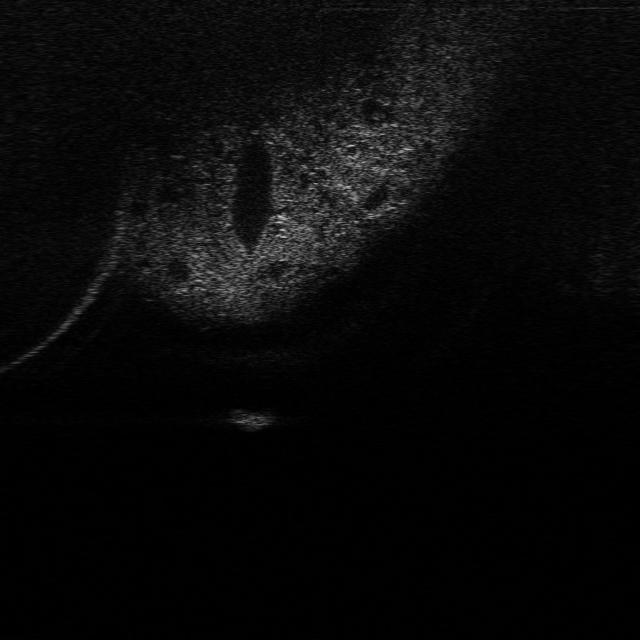cube: (224, 402, 280, 434)
